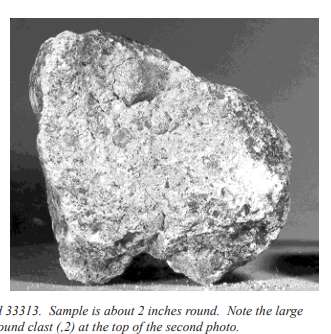Breccia: (1, 14, 293, 281)
